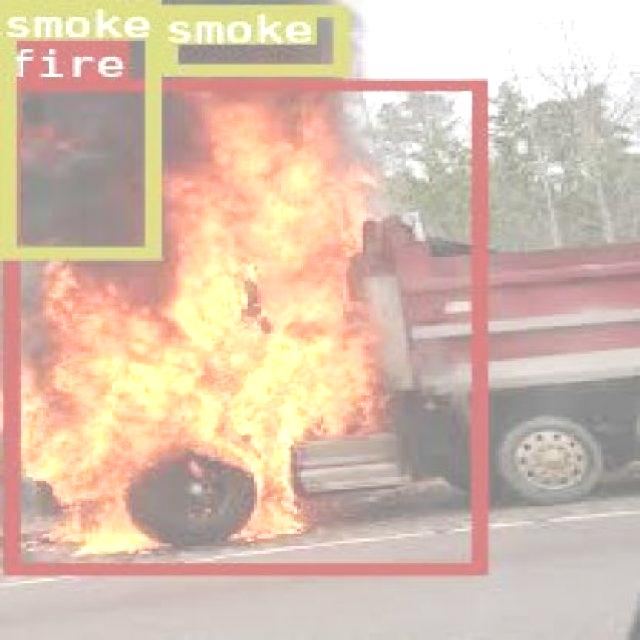fire: (0, 77, 482, 574)
smoke: (0, 0, 155, 254), (161, 4, 345, 73)
